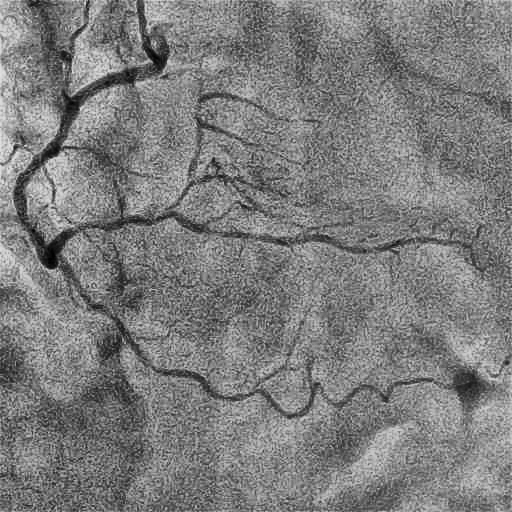pborca: (166, 123, 203, 212)
pda: (170, 213, 472, 253)
rca: (13, 62, 169, 269)
